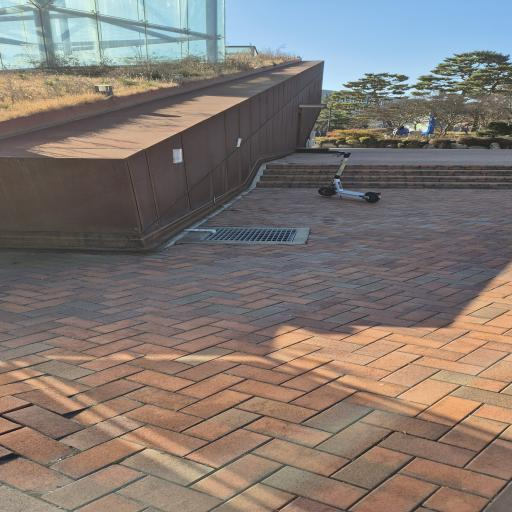drain: (201, 228, 297, 242)
